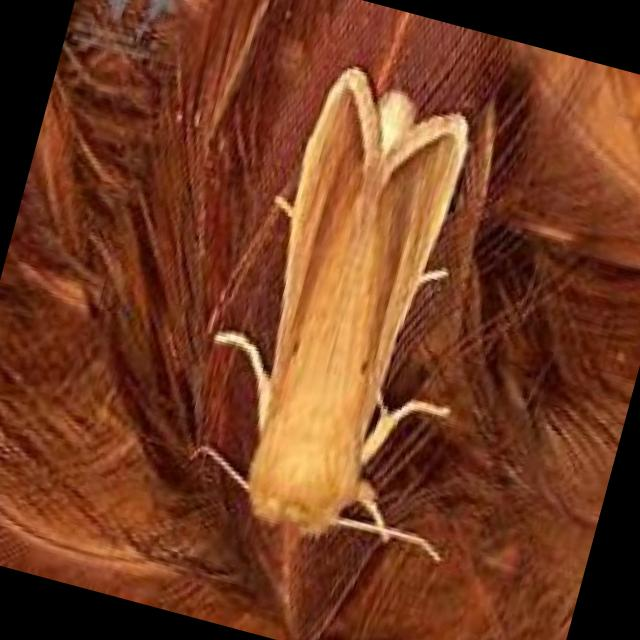stem-borer: (188, 50, 493, 562)
